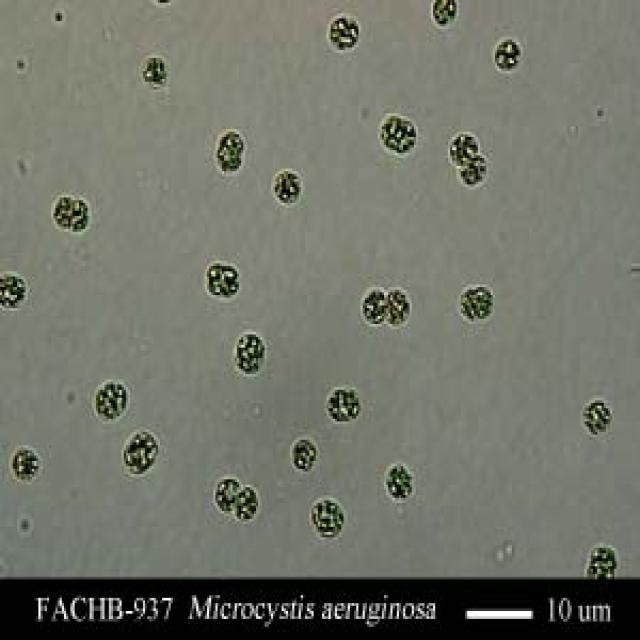Blue Green Algae: (94, 377, 134, 424), (307, 495, 346, 540), (130, 426, 162, 472), (384, 458, 418, 501), (8, 445, 45, 482), (271, 166, 303, 208), (207, 261, 241, 300), (324, 384, 358, 422), (582, 400, 612, 440), (235, 479, 260, 527), (384, 284, 412, 326), (490, 37, 524, 71), (290, 434, 320, 472), (140, 52, 170, 90), (213, 474, 241, 514), (2, 268, 28, 310), (232, 332, 264, 366), (361, 284, 386, 326), (448, 132, 480, 163), (459, 153, 486, 187), (426, 3, 461, 29), (591, 542, 621, 572), (457, 284, 480, 322), (380, 113, 403, 150), (471, 284, 493, 322), (216, 145, 241, 176), (51, 195, 73, 229), (329, 13, 352, 45), (218, 126, 245, 153), (70, 195, 88, 232)
